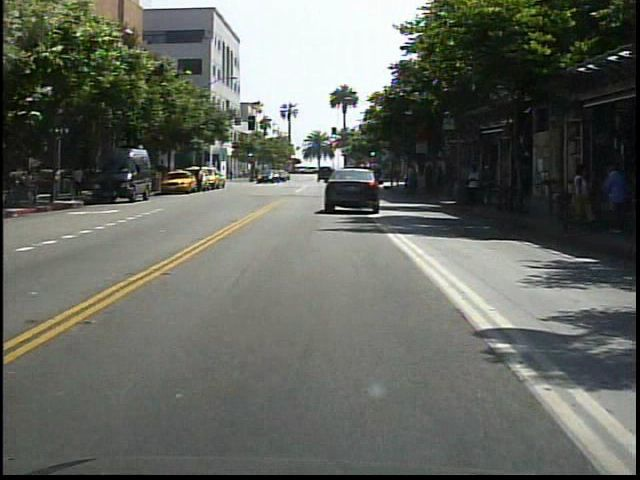person: (463, 163, 488, 215), (197, 163, 207, 196)
